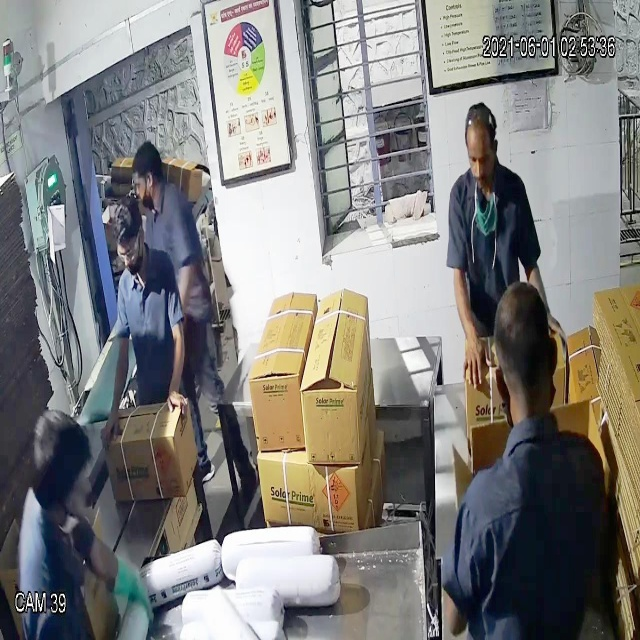Gafas: (115, 233, 146, 265)
Sin_gafas: (464, 132, 501, 174)
